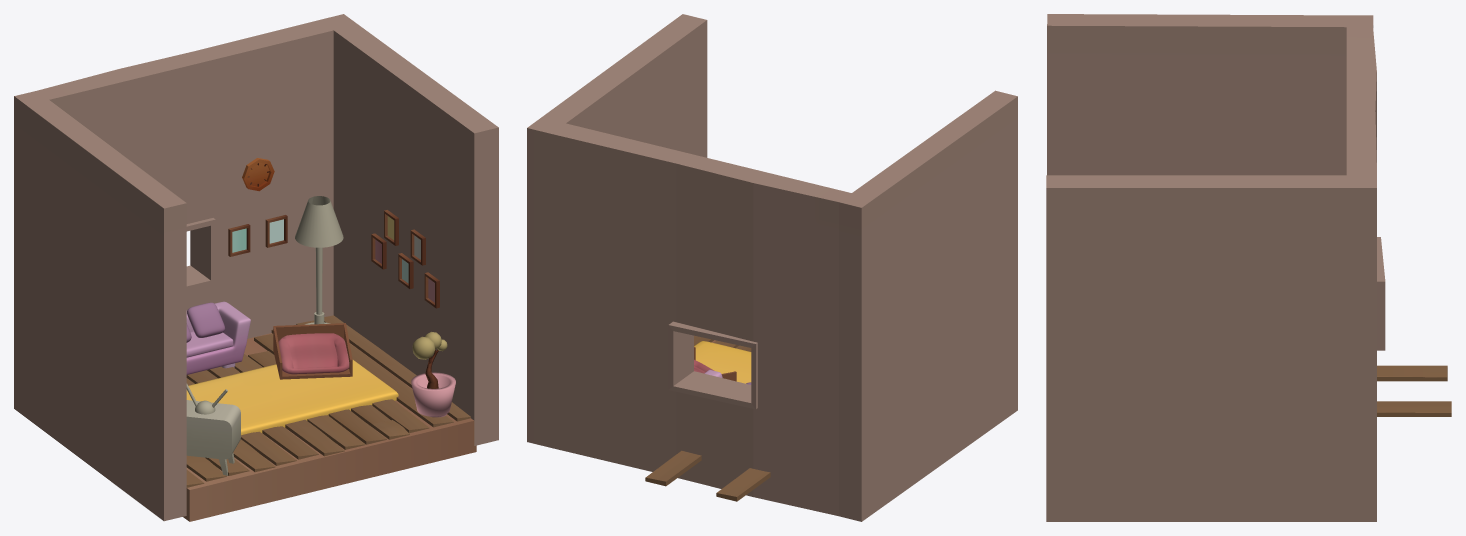
Rendered from Salatexturizada.fbx.
The picture shows the model from 3 angles, left to right: view 1: azimuth 30°, elevation 25°; view 2: azimuth 150°, elevation 25°; view 3: azimuth 270°, elevation 25°; orthographic projection. The views are drawn at different scales.
Visible parts, largest first — view 1: ParedSala, Piso.003, Tapete, Sofa grande, Televisor, Almohada 2.001, Marco ventana, Cylinder, Cube.038, Circle.001, Cube.010, Cube.001 (+14 smaller); view 2: ParedSala, Marco ventana, Tapete, Cube.008, Cube.004; view 3: ParedSala, Cube.004, Cube.008, Marco ventana.
Boxes of the visible parts, x1,y1,x2,y2 form: ParedSala: (14, 14, 498, 521); Piso.003: (183, 333, 476, 521); Tapete: (186, 360, 398, 435); Sofa grande: (186, 301, 250, 374); Televisor: (186, 400, 240, 459); Almohada 2.001: (278, 333, 349, 374); Marco ventana: (186, 218, 215, 291); Cylinder: (295, 196, 343, 247); Cube.038: (273, 323, 352, 379); Circle.001: (411, 372, 455, 417); Cube.010: (324, 315, 470, 421); Cube.001: (296, 320, 453, 427); ParedSala: (527, 14, 1017, 521); Marco ventana: (668, 321, 757, 409); Tapete: (694, 341, 751, 383); Cube.008: (645, 450, 701, 486); Cube.004: (716, 468, 770, 501); ParedSala: (1046, 14, 1376, 521); Cube.004: (1377, 365, 1447, 381); Cube.008: (1377, 401, 1451, 416); Marco ventana: (1377, 237, 1385, 350).
Size of the model in its own units: 824 by 752 by 811.
